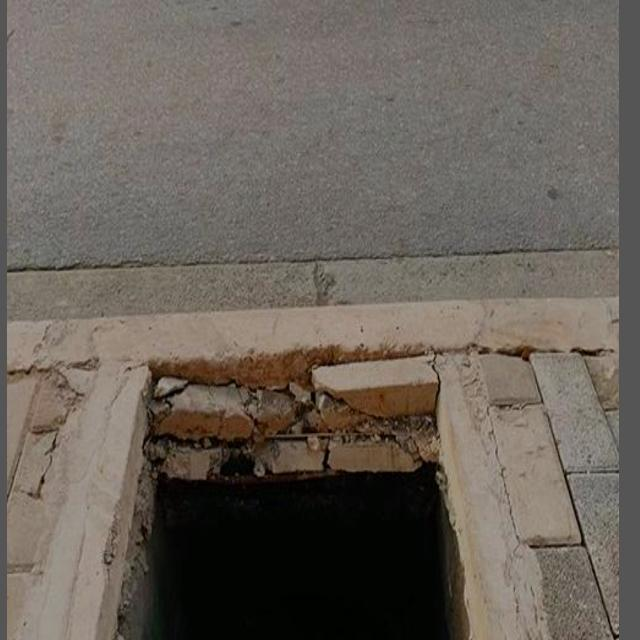lose: (55, 312, 509, 640)
